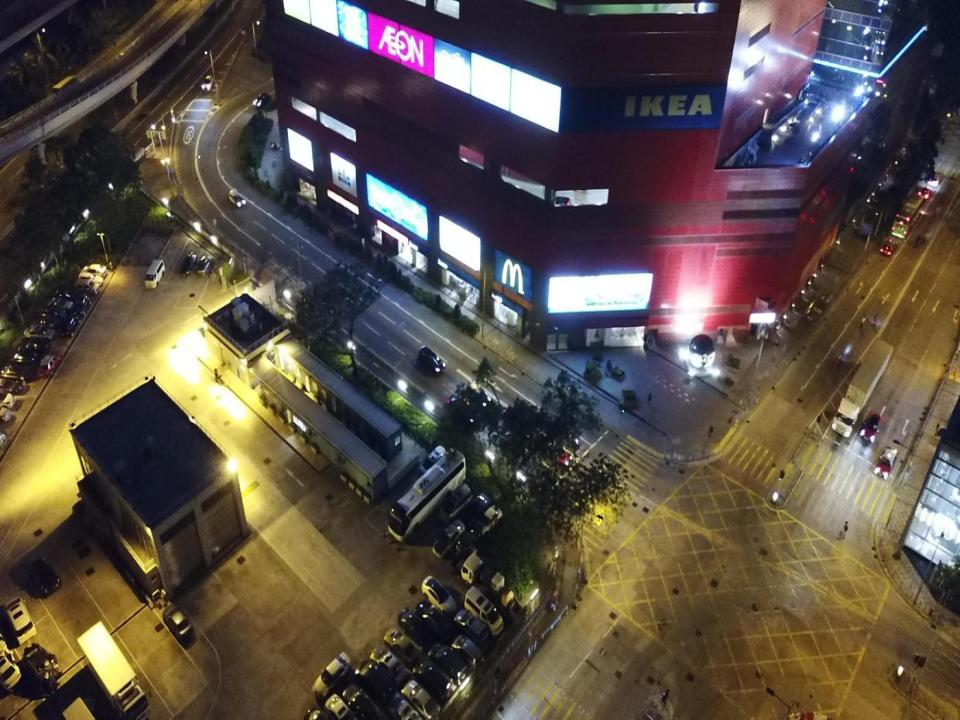bus: (388, 448, 466, 542), (891, 194, 923, 238)
car: (355, 659, 397, 706), (312, 650, 352, 698), (342, 684, 391, 719), (3, 596, 37, 645), (413, 656, 451, 698), (383, 626, 421, 668), (369, 645, 407, 687), (398, 606, 434, 649), (401, 680, 441, 718), (420, 575, 457, 614), (430, 640, 467, 678), (418, 600, 453, 640), (454, 608, 490, 644), (163, 603, 194, 644), (30, 556, 61, 595), (433, 519, 464, 558), (447, 393, 480, 427), (450, 633, 485, 664), (462, 492, 490, 529), (388, 692, 425, 719), (474, 504, 502, 534), (418, 346, 445, 375), (450, 533, 476, 563), (324, 693, 354, 719), (542, 438, 572, 464), (874, 446, 897, 479), (465, 383, 494, 409), (38, 350, 63, 379), (859, 413, 883, 443), (58, 314, 82, 337), (72, 292, 91, 316), (80, 264, 108, 279), (46, 295, 74, 310), (180, 253, 198, 276), (69, 282, 99, 295), (18, 338, 48, 351), (14, 349, 44, 362), (8, 360, 38, 373), (0, 369, 30, 382), (75, 274, 104, 287), (52, 289, 81, 302), (31, 317, 61, 329), (25, 326, 55, 338), (253, 92, 272, 110), (228, 189, 246, 208), (880, 237, 898, 255), (0, 379, 23, 393), (198, 255, 212, 274), (201, 75, 214, 91), (927, 172, 942, 185), (918, 187, 931, 199)
truck: (76, 620, 151, 719), (831, 336, 894, 438), (461, 552, 524, 621), (52, 75, 80, 100)
van: (464, 586, 505, 636), (438, 481, 473, 522), (0, 637, 22, 689), (420, 445, 446, 476), (144, 258, 166, 288), (38, 304, 65, 319)
